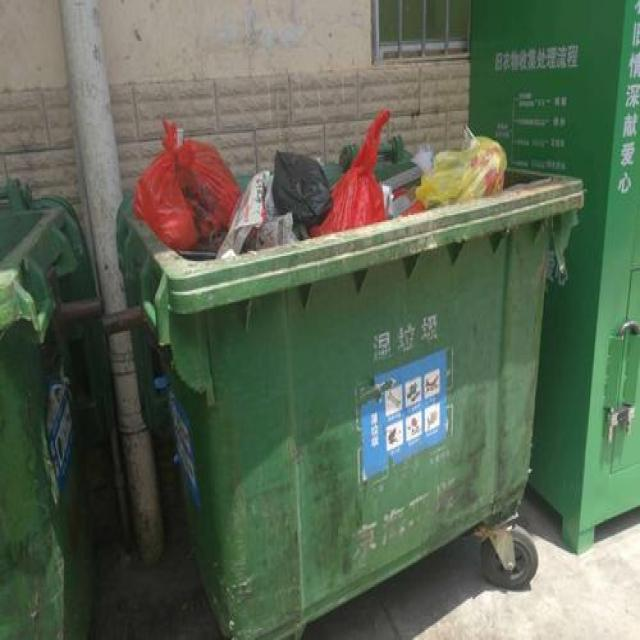garbage_bin: (0, 177, 109, 638)
overflow: (115, 109, 585, 635)
